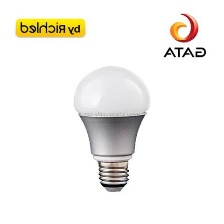light_bulb: (70, 62, 155, 195)
